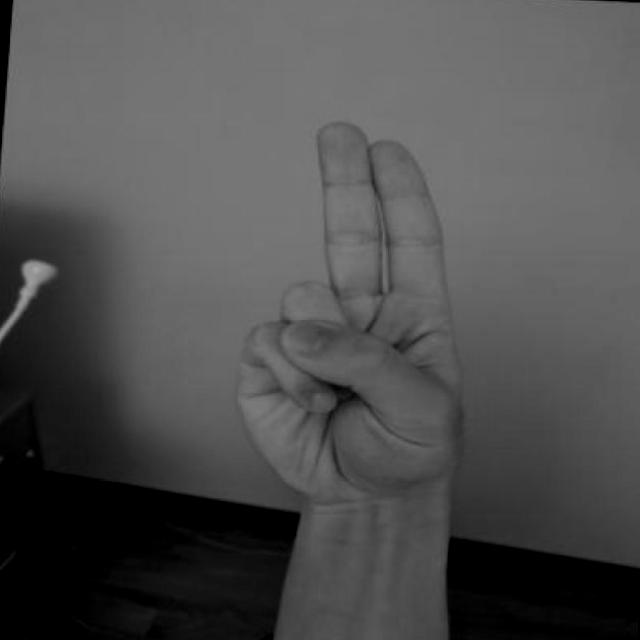U: (219, 103, 504, 640)
